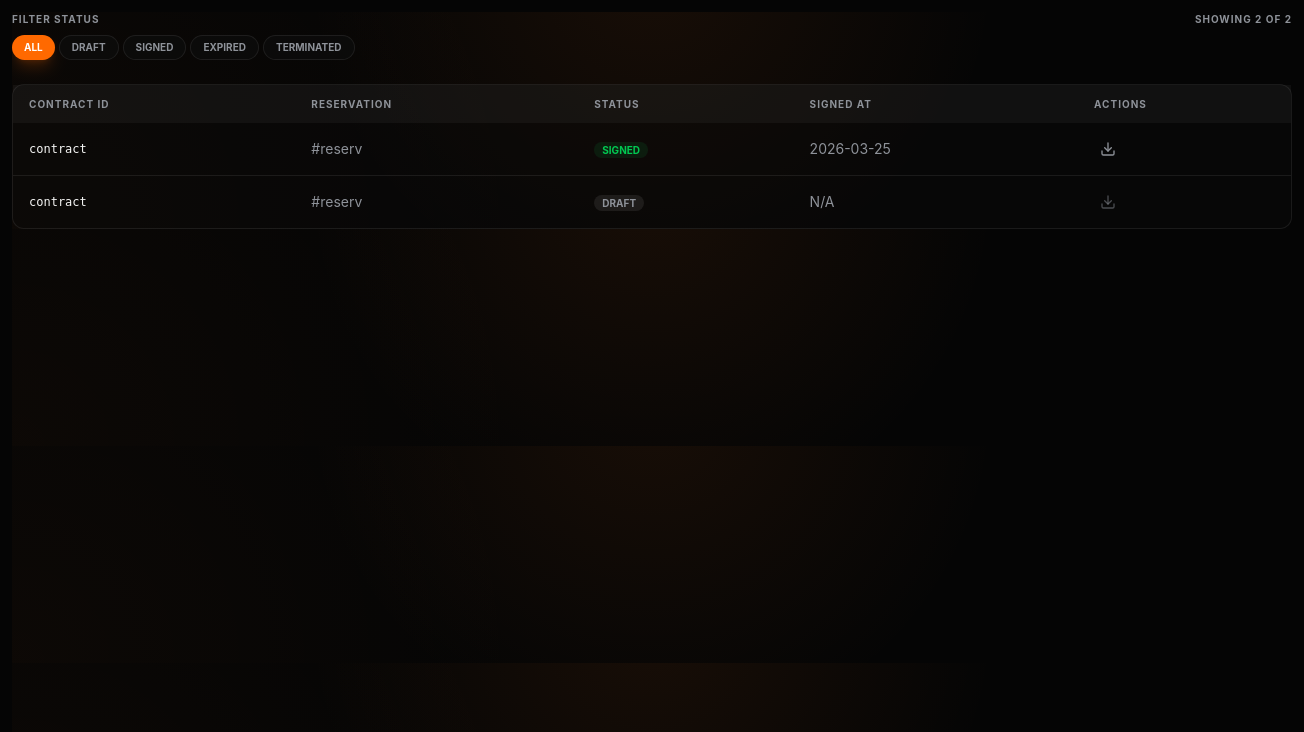
Test case: ContractModule › renders an accessible contracts table and filters rows by status
The image size is (1304, 732).
Expected: the table named "Contracts" is shown, [13,85,1291,228]
Expected: the text "Showing 2 of 2" is shown, [1195,12,1292,27]
Click the button "signed": click(154, 48) [123,35,186,60]
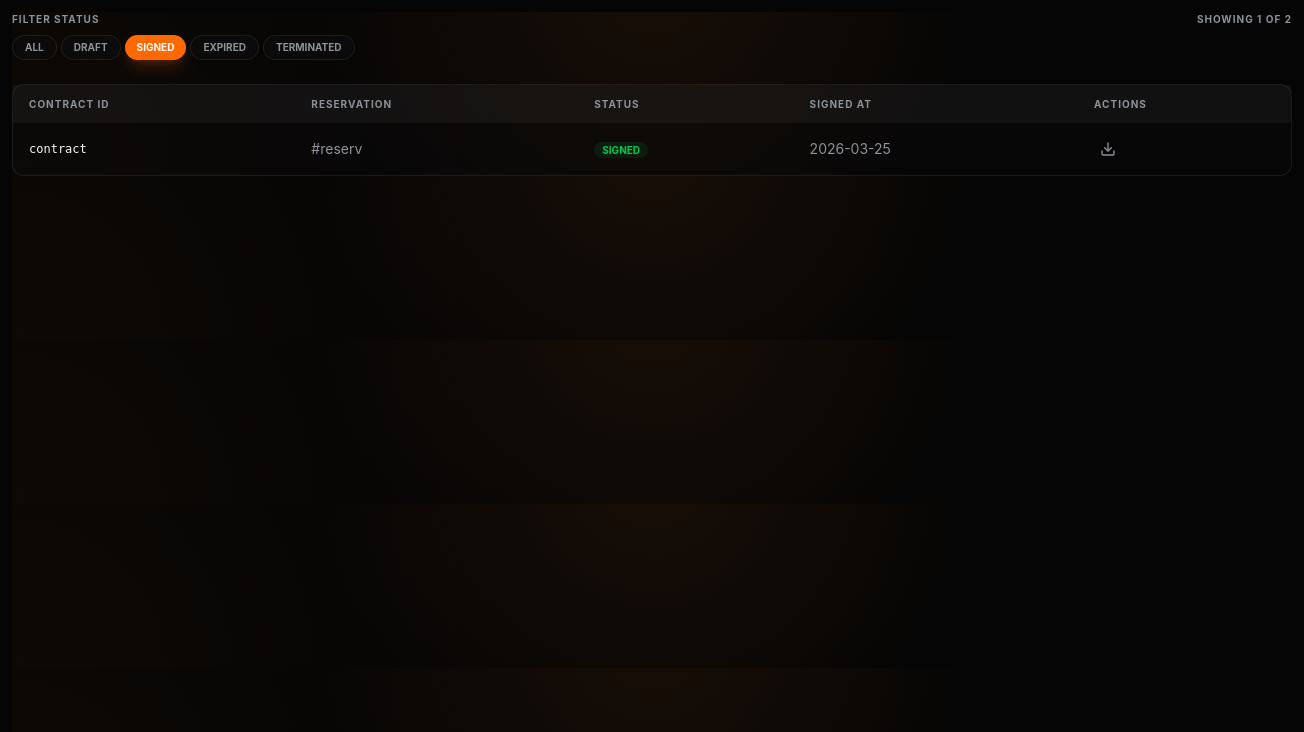
Expected: the text "2026-03-25" is shown, [794,123,1078,175]
Now the text "Showing 1 of 2" is shown, box [1197,12,1292,27]
